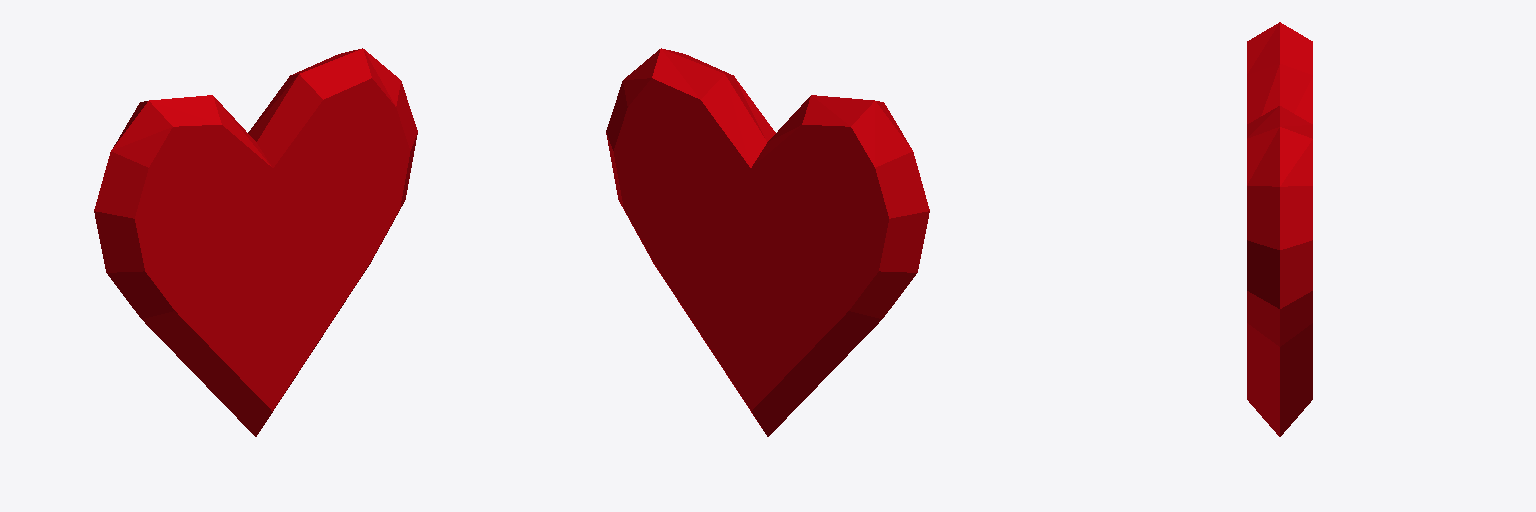
File: heart.obj
3 views of the same model, side by side, from view 1: azimuth 30°, elevation 25°; view 2: azimuth 150°, elevation 25°; view 3: azimuth 270°, elevation 25° (orthographic).
Visible parts, largest first — view 1: Heart_Circle; view 2: Heart_Circle; view 3: Heart_Circle.
Boxes of the visible parts, <box> form: Heart_Circle: <box>94,48,417,436</box>; Heart_Circle: <box>606,48,929,436</box>; Heart_Circle: <box>1247,22,1312,436</box>.
Bounding box in the file's own units: 1.17 × 1.26 × 0.2084.